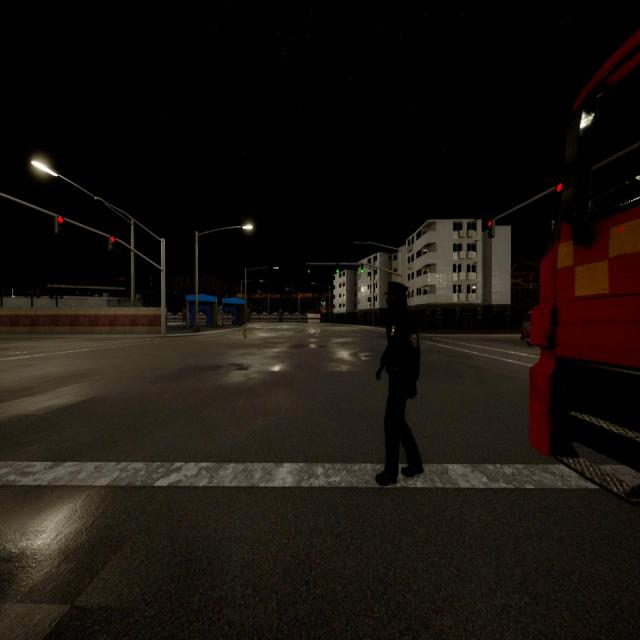Pedestrian: (376, 282, 422, 486), (242, 321, 246, 338)
Vehicle: (530, 30, 639, 502)
traffic_light: (56, 216, 64, 232), (489, 221, 495, 237), (109, 236, 115, 250), (557, 184, 562, 191), (336, 264, 339, 272), (308, 265, 310, 273), (361, 264, 363, 272)
